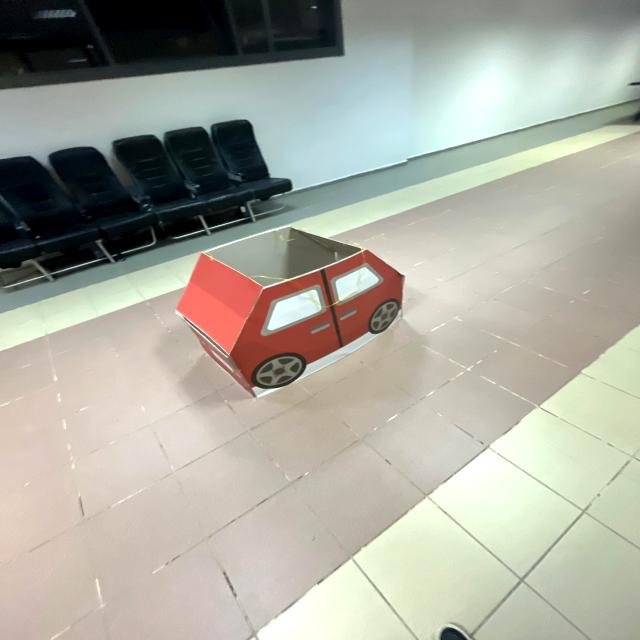red_car: (166, 217, 430, 411)
